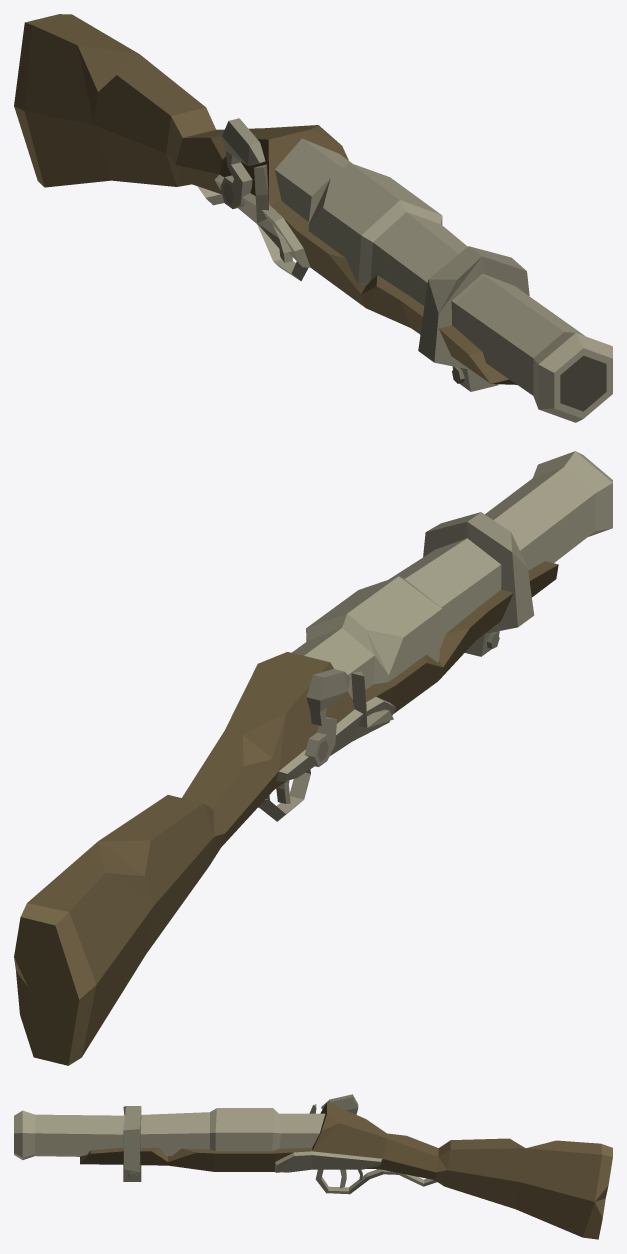
File: HandCannon_1.fbx
The picture shows the model from 3 angles, top to bottom: view 1: azimuth 30°, elevation 25°; view 2: azimuth 150°, elevation 25°; view 3: azimuth 270°, elevation 25°; orthographic projection. The views are drawn at different scales.
Visible parts, largest first — view 1: HandCannon_1; view 2: HandCannon_1; view 3: HandCannon_1.
Part boxes in pixels (<box>): HandCannon_1: <box>14,14,612,422</box>; HandCannon_1: <box>14,451,612,1065</box>; HandCannon_1: <box>14,1094,612,1239</box>.
Bounding box in the file's own units: 13.02 × 26.05 × 110.
